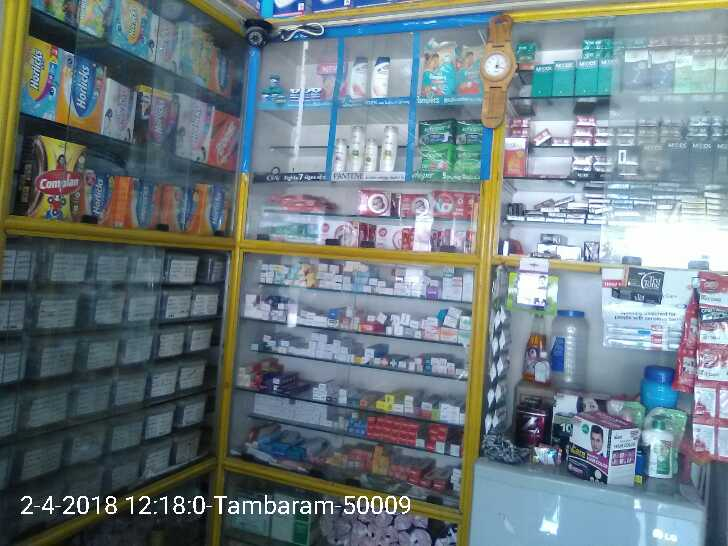vicks: (260, 71, 324, 104)
